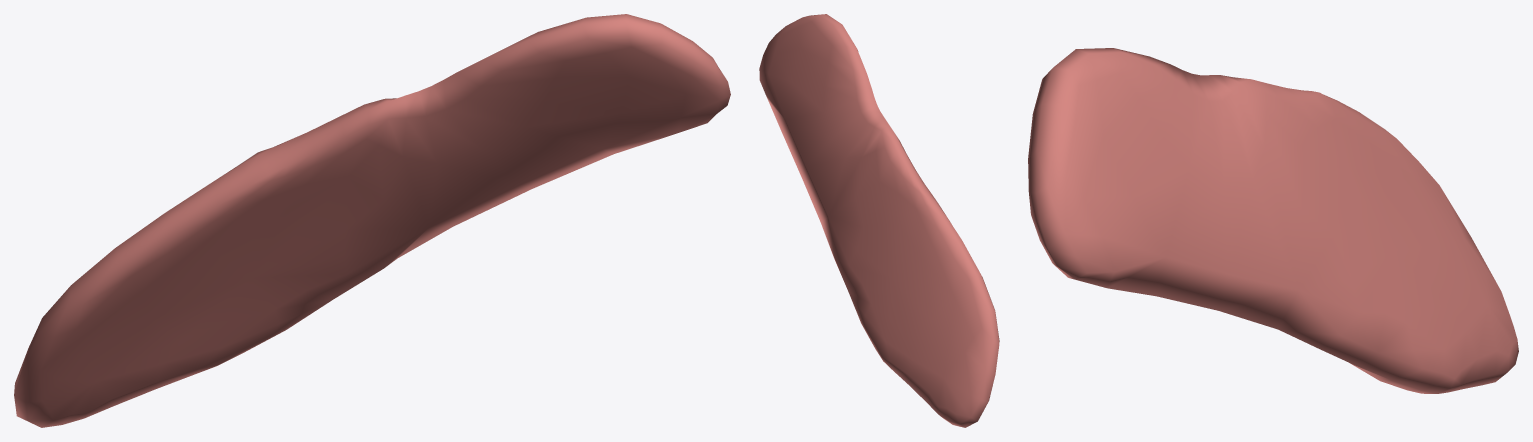
3 views of the same model, side by side, from view 1: azimuth 30°, elevation 25°; view 2: azimuth 150°, elevation 25°; view 3: azimuth 270°, elevation 25° (orthographic). The views are drawn at different scales.
Visible parts, largest first — view 1: ZA_4ba3329f63f1d532; view 2: ZA_4ba3329f63f1d532; view 3: ZA_4ba3329f63f1d532.
Boxes of the visible parts, <box> form: ZA_4ba3329f63f1d532: <box>14,14,730,427</box>; ZA_4ba3329f63f1d532: <box>759,14,999,427</box>; ZA_4ba3329f63f1d532: <box>1028,48,1518,393</box>.
Size of the model in its own units: 0.00795 by 0.00616 by 0.00506.
